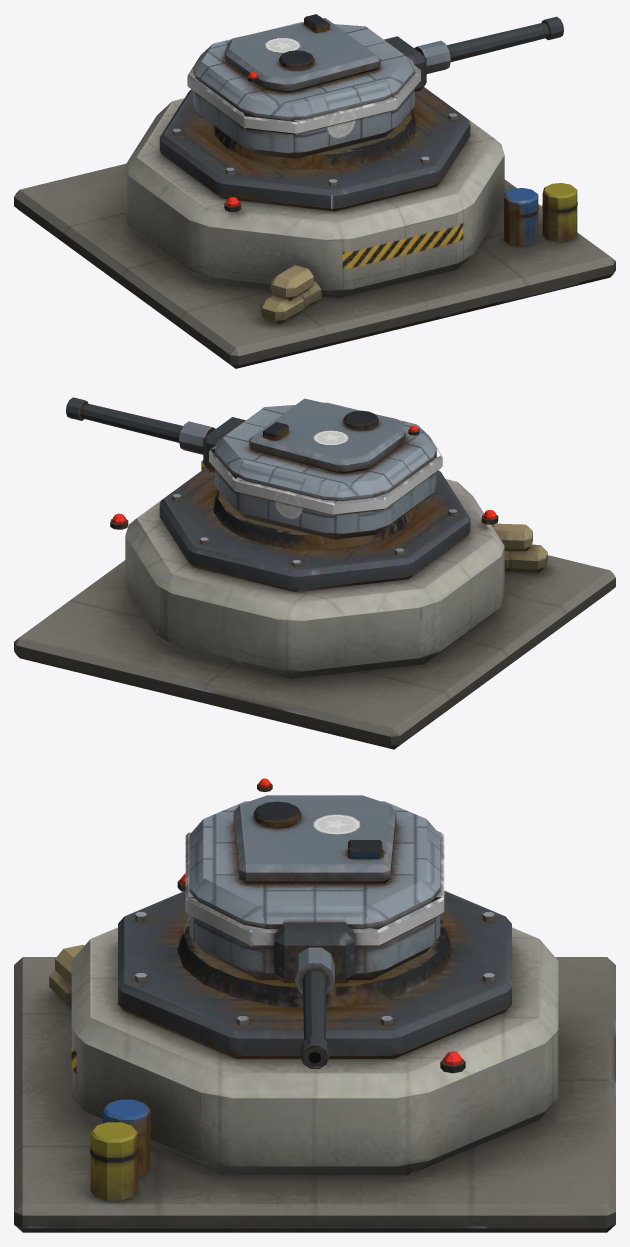
The model's file is gun.allies.glb.
The picture shows the model from 3 angles, top to bottom: view 1: azimuth 30°, elevation 25°; view 2: azimuth 150°, elevation 25°; view 3: azimuth 270°, elevation 25°; orthographic projection. The views are drawn at different scales.
Visible parts, largest first — view 1: root_mesh, turret_mesh, b0_mesh; view 2: root_mesh, turret_mesh, b0_mesh; view 3: root_mesh, turret_mesh, b0_mesh.
Part boxes in pixels (left/top/right/bottom): root_mesh: left=14, top=87, right=615, bottom=368; turret_mesh: left=187, top=14, right=426, bottom=158; b0_mesh: left=414, top=16, right=563, bottom=73; root_mesh: left=14, top=460, right=615, bottom=749; turret_mesh: left=203, top=398, right=442, bottom=539; b0_mesh: left=66, top=397, right=215, bottom=454; root_mesh: left=14, top=873, right=615, bottom=1232; turret_mesh: left=185, top=778, right=444, bottom=983; b0_mesh: left=295, top=947, right=334, bottom=1068.
Size of the model in its own units: 1.09 by 0.4905 by 0.96.
1 material, 1 textured.
